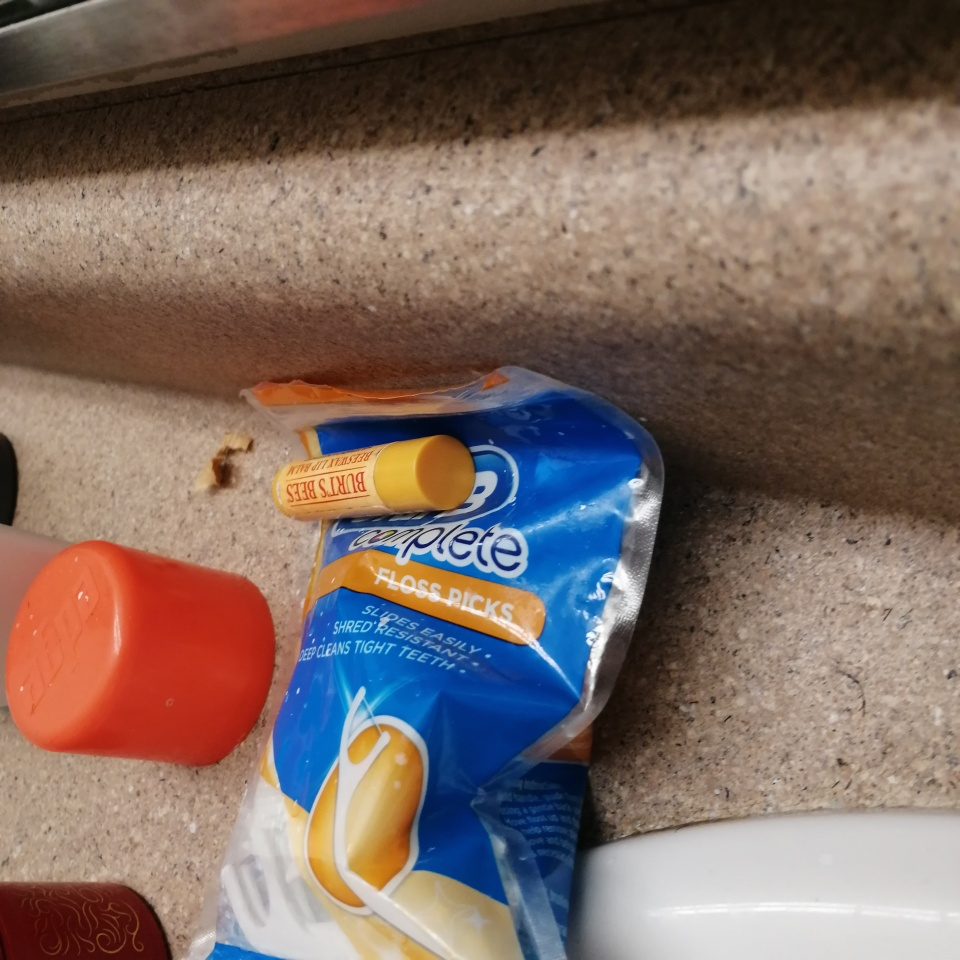chapstick: (273, 435, 476, 522)
